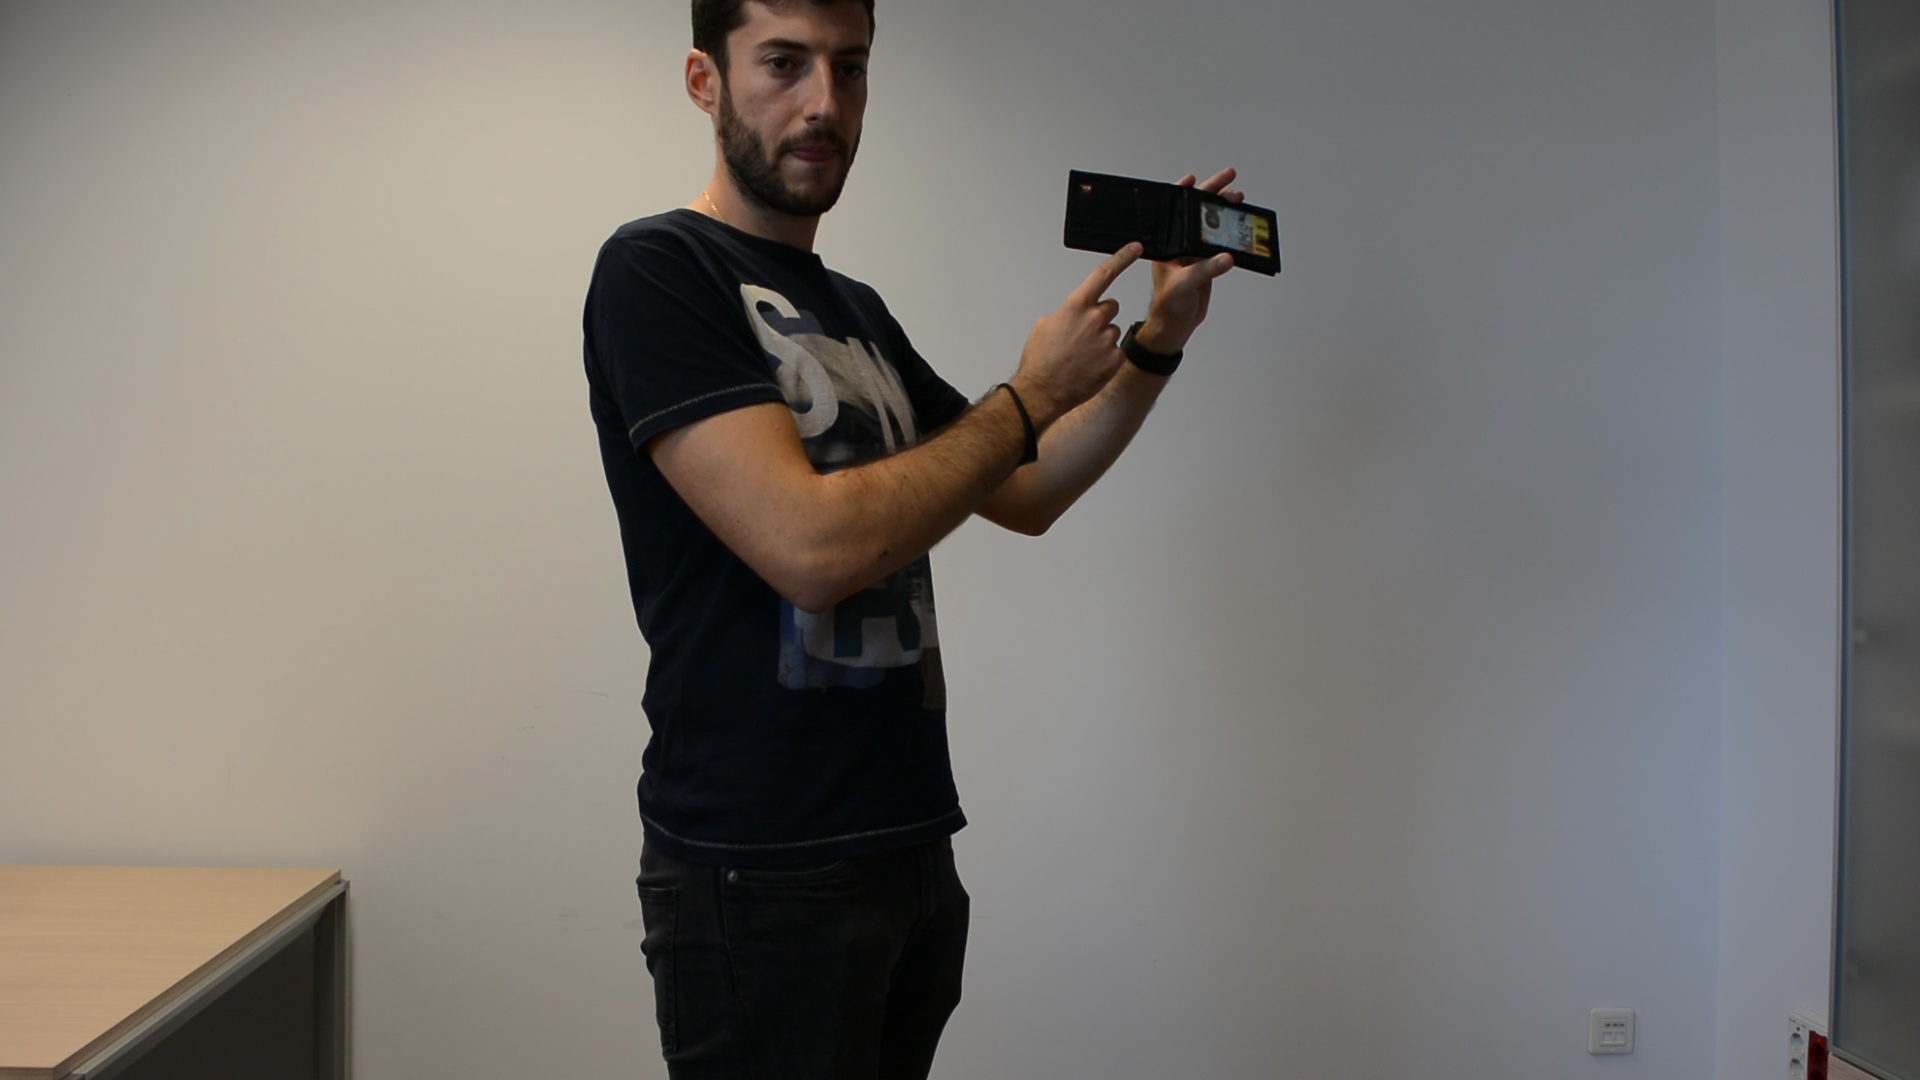monedero: (1055, 160, 1286, 287)
